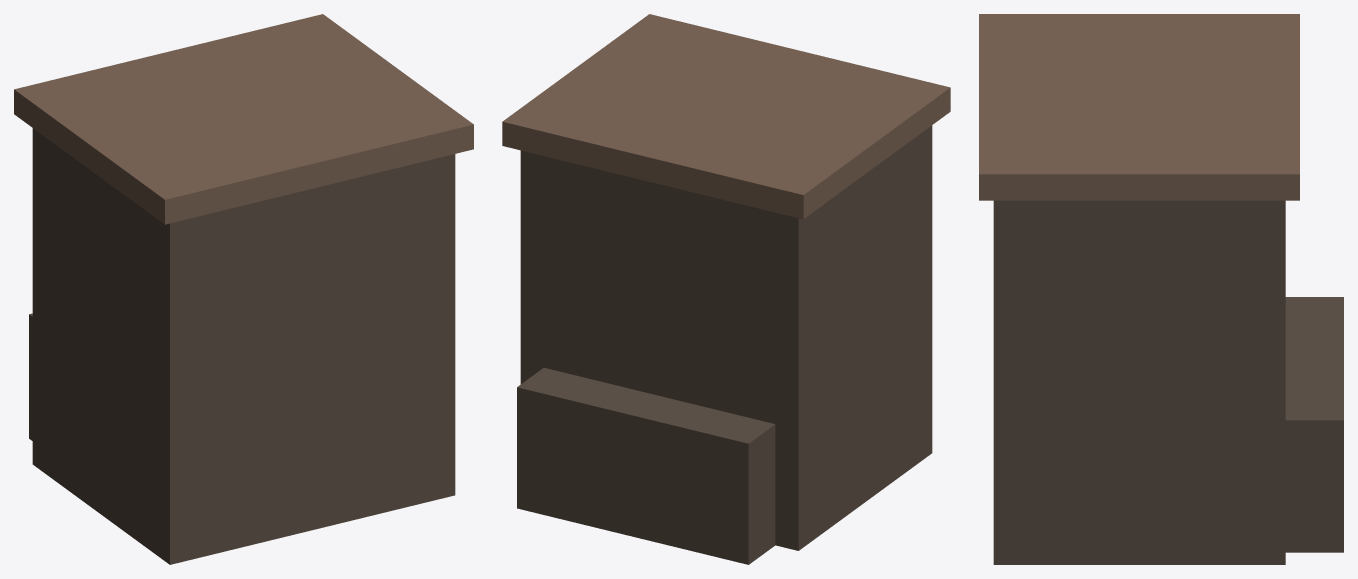
The model's file is prop_bandai.glb.
3 views of the same model, side by side, from view 1: azimuth 30°, elevation 25°; view 2: azimuth 150°, elevation 25°; view 3: azimuth 270°, elevation 25° (orthographic). The views are drawn at different scales.
Parts seen in each view (by area): view 1: bandai; view 2: bandai; view 3: bandai.
Boxes of the visible parts, x1,y1,x2,y2 form: bandai: (14, 14, 473, 564); bandai: (502, 14, 950, 564); bandai: (979, 14, 1343, 564).
Bounding box in the file's own units: 1.3 × 1.5 × 1.25.
